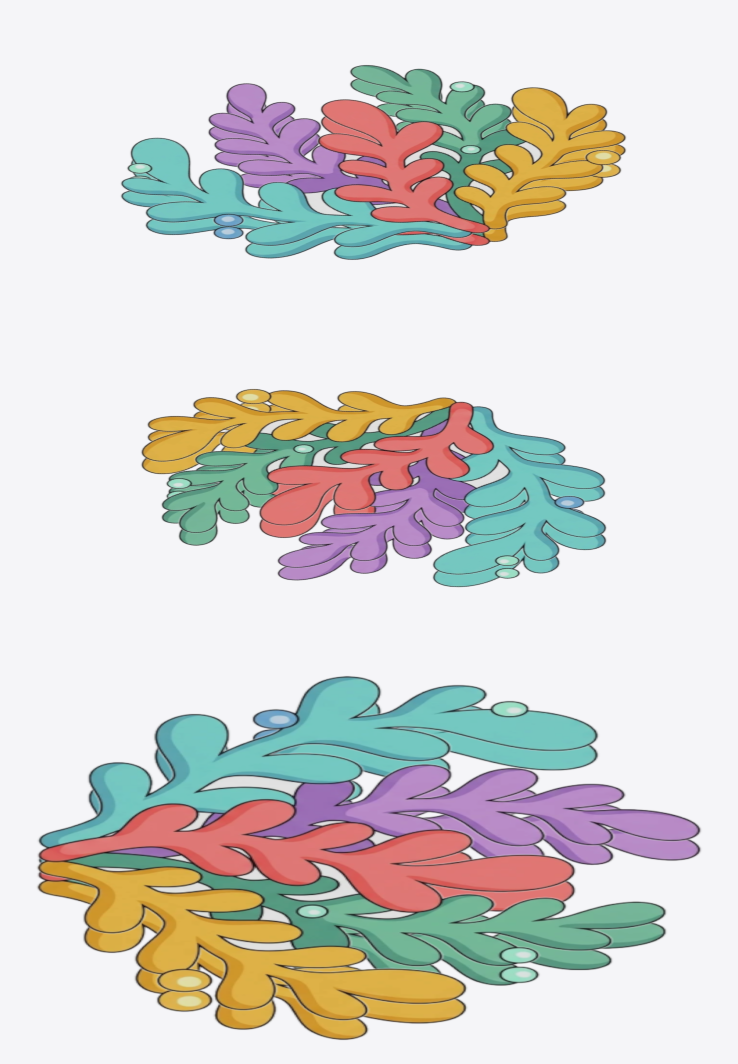
The model's file is seagrass.glb.
3 renders of one model, top to bottom at view 1: azimuth 30°, elevation 25°; view 2: azimuth 150°, elevation 25°; view 3: azimuth 270°, elevation 25°, orthographic. The views are drawn at different scales.
Visible parts, largest first — view 1: seagrass; view 2: seagrass; view 3: seagrass.
Boxes of the visible parts, left/top/right/bottom form: seagrass: left=120, top=64, right=626, bottom=259; seagrass: left=140, top=388, right=606, bottom=587; seagrass: left=36, top=675, right=701, bottom=1040.
Size of the model in its own units: 2 by 0.05 by 1.65.
Materials: 1 (1 with a texture image).
